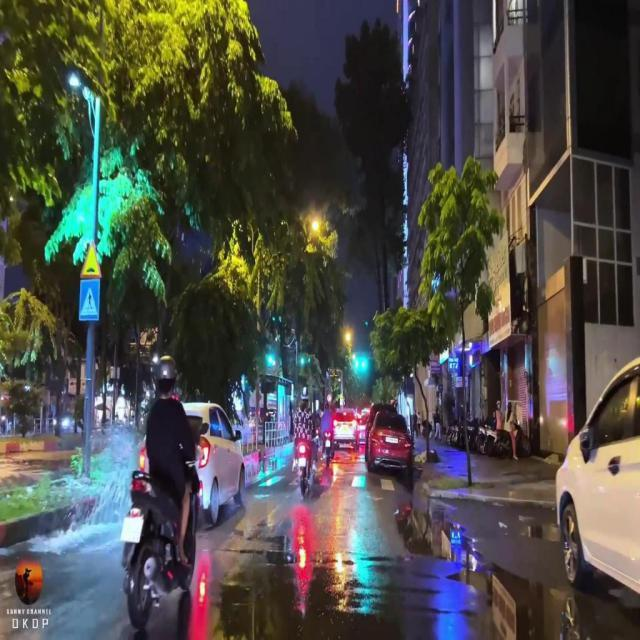221-duong-go-ghe: (80, 244, 102, 278)
224-duong-nguoi-di-bo-cat-ngang: (79, 278, 99, 322)
